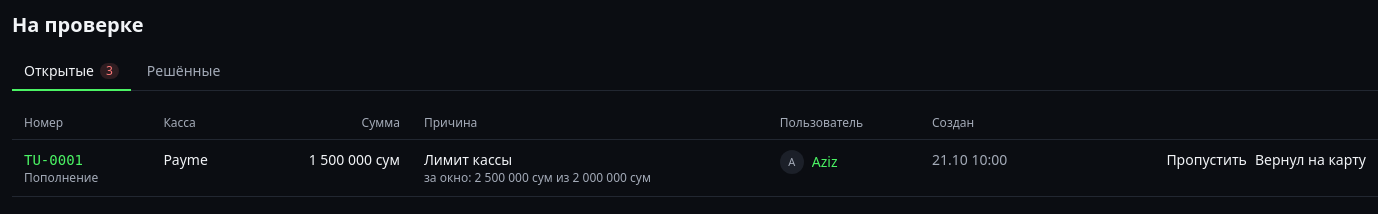
Test case: HoldsPage › the «Решённые» tab reads decided holds with who and what
This screenshot has width=1378, height=214.
Expected: the link "TU-0001" is shown, [24,152,83,168]
Click the tab "Решённые".
click(184, 72)  # box [135,53,232,91]
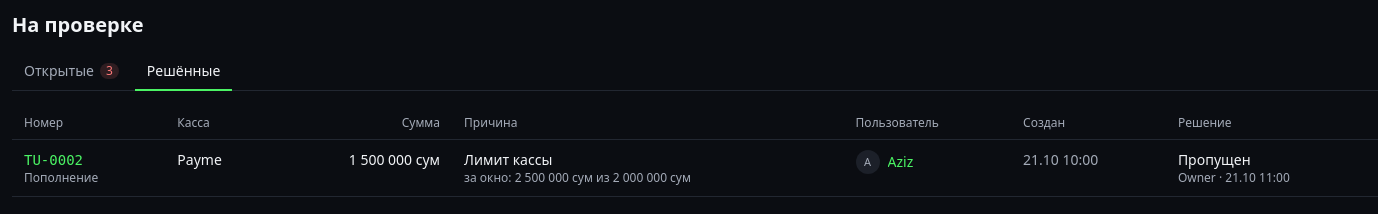
Expected: the link "TU-0002" is shown, [24,152,83,168]
Expected: the text "Пропущен" is shown, [1178,150,1251,169]
Expected: the text "Owner · 21.10 11:00" is shown, [1178,169,1290,186]
